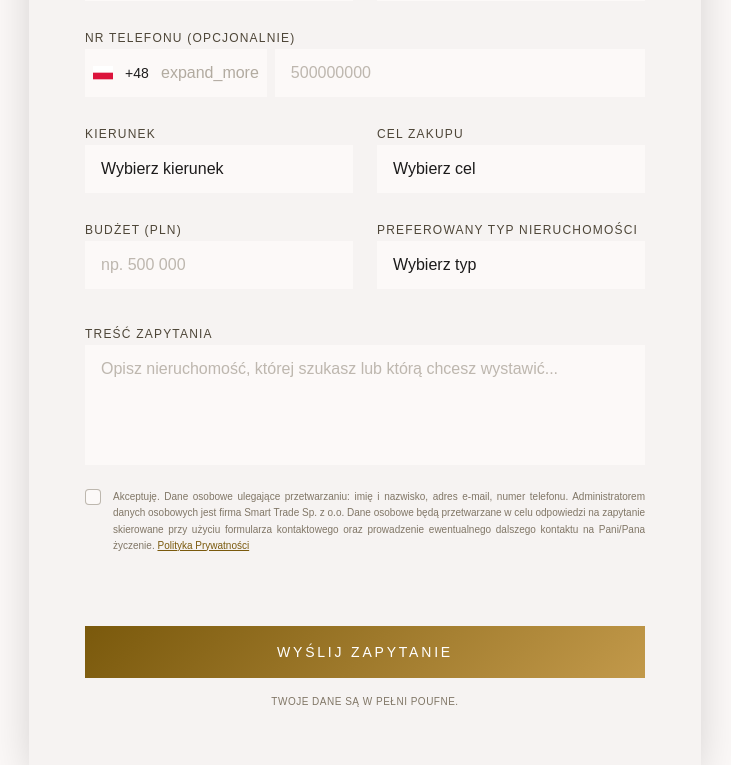
Test: ContactForm › explains missing consent, focuses the checkbox, and clears the error when checked
(page scrolled)
Click the button "Wyślij zapytanie".
click(365, 652)  # box [85,626,645,678]
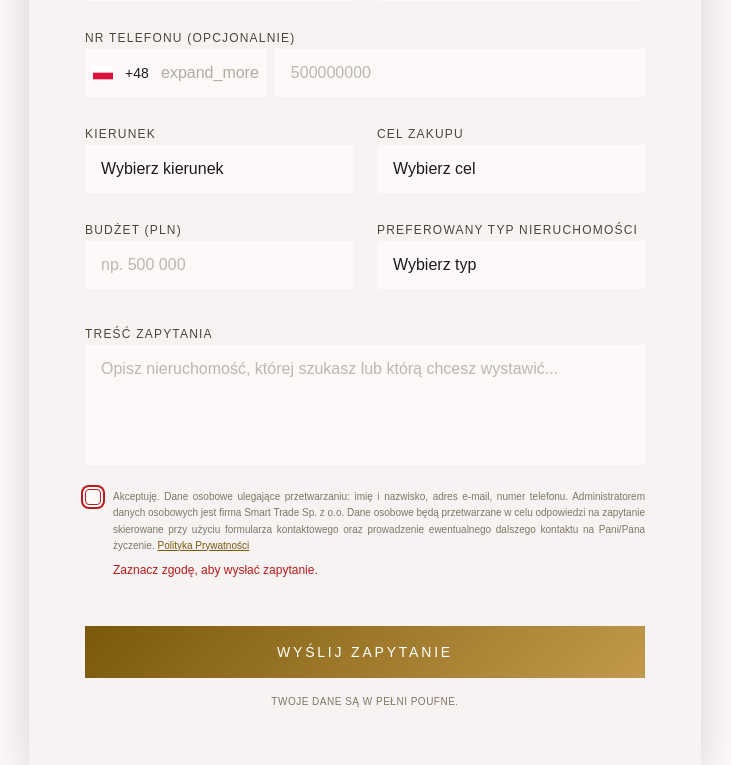
Now the message reads "Zaznacz zgodę, aby wysłać zapytanie.", box [113,563,318,577]
Click the checkbox.
click(365, 522)  # box [85,489,645,554]
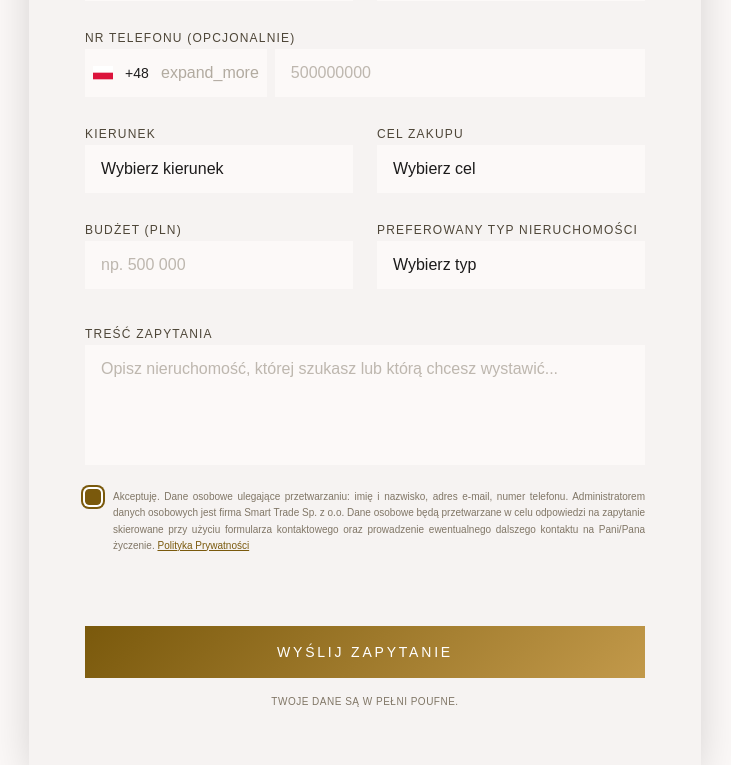
Now the checkbox is checked, box [85,489,645,554]
Now the message "Zaznacz zgodę, aby wysłać zapytanie." is gone
